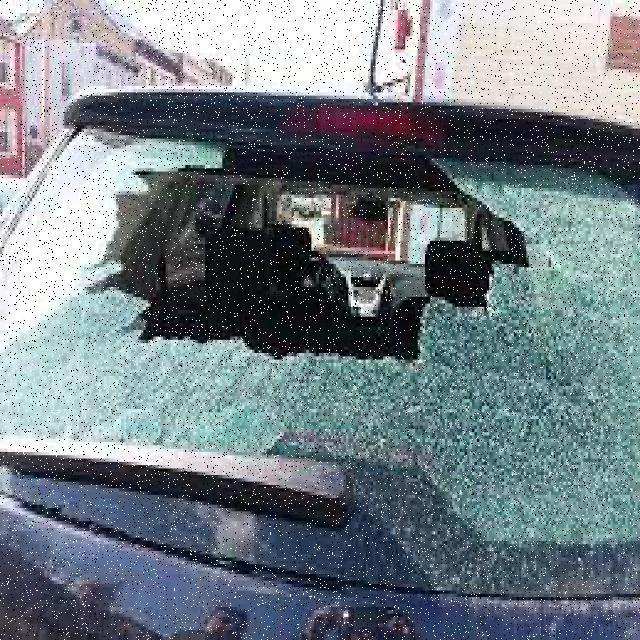Rear-windscreen-Damage: (0, 79, 633, 582)
